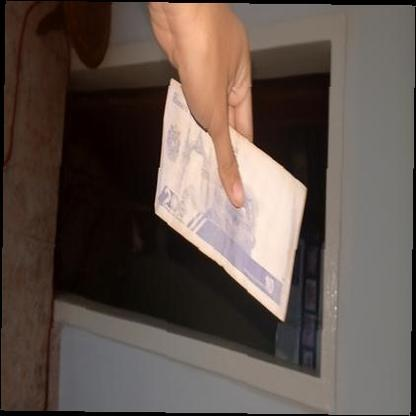ten-back-vef: (154, 78, 308, 322)
